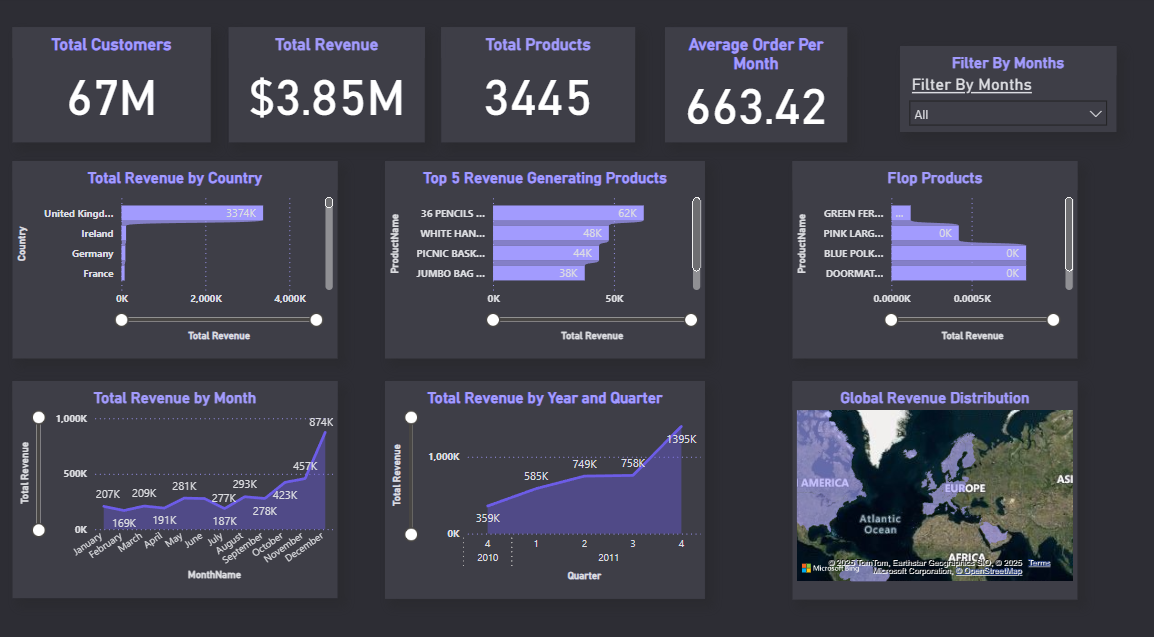

The page's visual inventory and layout, read from the dashboard file:
{"tool":"powerbi","page":{"name":"Retail ","canvas":[1280,720],"ordinal":0},"visuals":[{"type":"barChart","fields":{"Category":["Geography.Country"],"Y":["SalesDetails.Total Revenue"]},"box":[19.2,181.1,356.8,216.8],"z":0},{"type":"areaChart","fields":{"Category":["DateDim.Year","DateDim.Quarter"],"Y":["SalesDetails.Total Revenue"]},"box":[427.9,422.1,351.2,239.5],"z":1000},{"type":"areaChart","title":"Total Revenue by Month","fields":{"Category":["DateDim.MonthName"],"Y":["SalesDetails.Total Revenue"]},"box":[19.2,422.6,356.8,238.8],"z":2000},{"type":"barChart","title":"Top 5 Revenue Generating Products","fields":{"Y":["SalesDetails.Total Revenue"],"Category":["Product.ProductName"]},"box":[428.1,181.1,351.3,216.8],"z":3000},{"type":"barChart","title":"Flop Products ","fields":{"Y":["SalesDetails.Total Revenue"],"Category":["Product.ProductName"]},"box":[875.5,181.1,312.9,216.8],"z":4000},{"type":"card","title":"Total Customers","fields":{"Values":["Customer.Total Customers"]},"box":[19.8,33.7,217.4,126.7],"z":5000},{"type":"card","title":"Total Revenue","fields":{"Values":["SalesDetails.Total Revenue"]},"box":[257,33.7,215.1,126.7],"z":6000},{"type":"card","title":"Total Products","fields":{"Values":["Product.Total Products"]},"box":[489.5,33.7,212.8,126.7],"z":7000},{"type":"card","title":"Average Order Per Month ","fields":{"Values":["SalesDetails.Average Order Per Day"]},"box":[736,33.7,200,126.7],"z":8000},{"type":"slicer","title":"Filter By Months","fields":{"Values":["DateDim.MonthName","DateDim.Year"]},"box":[993.5,54.9,237.4,94.7],"z":9000},{"type":"filledMap","title":"Global Revenue Distribution","fields":{"Category":["Geography.Country"]},"box":[875.5,422.6,312.9,240.1],"z":10000}]}

Visuals, with their boxes in screenshot pixels (x1, y1, x2, y2), scaled from the page's 1280x720 canvas onto the 1154x637 screenshot:
barChart - Geography.Country x SalesDetails.Total Revenue: box=[17, 160, 339, 352]
areaChart - DateDim.Year x DateDim.Quarter: box=[386, 373, 702, 585]
"Total Revenue by Month" areaChart: box=[17, 374, 339, 585]
"Top 5 Revenue Generating Products" barChart: box=[386, 160, 703, 352]
"Flop Products " barChart: box=[789, 160, 1071, 352]
"Total Customers" card: box=[18, 30, 214, 142]
"Total Revenue" card: box=[232, 30, 426, 142]
"Total Products" card: box=[441, 30, 633, 142]
"Average Order Per Month " card: box=[664, 30, 844, 142]
"Filter By Months" slicer: box=[896, 49, 1110, 132]
"Global Revenue Distribution" filledMap: box=[789, 374, 1071, 586]
